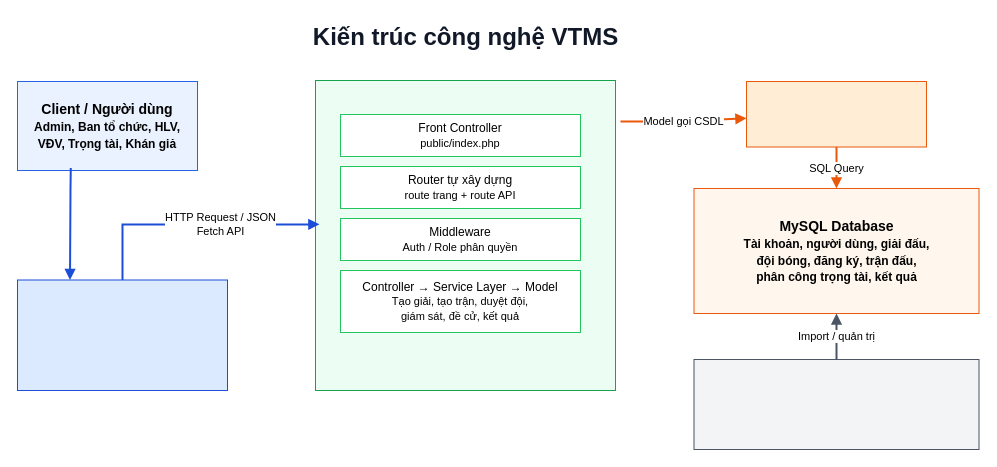
Image size: 997x467. Some labels were removed from this diagram. The box of each missing label's shape, as (x1, y1, x2, y2) in pixels:
MySQL Workbench Import vtms5.sql quản trị / kiểm tra CSDL: (693, 358, 979, 450)
PDO / Prepared Statement: (746, 80, 926, 147)
Web Client / Browser HTML / CSS / JavaScript Fetch API Client: (16, 279, 228, 390)
